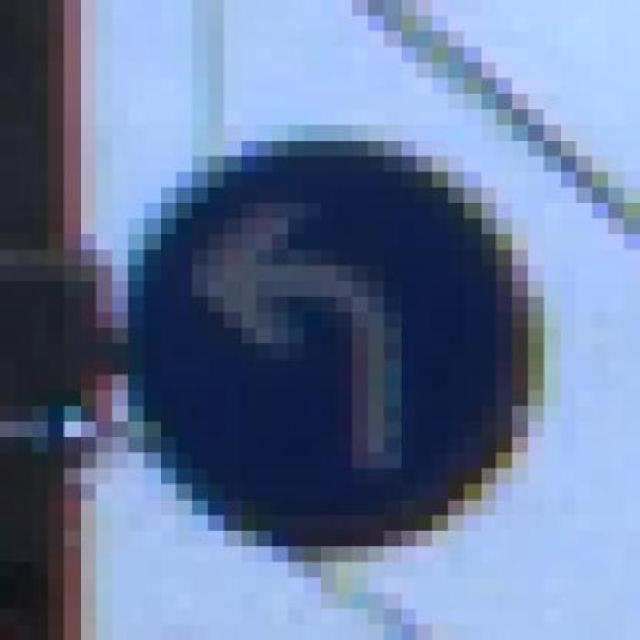Turn left ahead: (128, 109, 544, 562)
